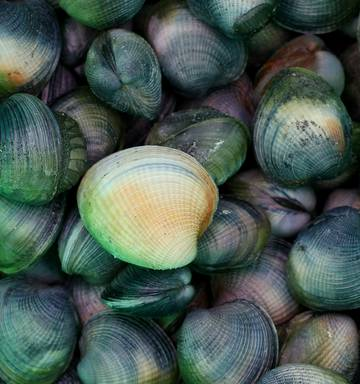cockle: (74, 144, 219, 267), (251, 66, 356, 184), (176, 298, 281, 384), (1, 272, 80, 382), (148, 5, 247, 90), (84, 27, 166, 124), (286, 202, 360, 309), (149, 104, 249, 182), (75, 312, 180, 384), (220, 237, 301, 326), (1, 92, 63, 207), (256, 35, 350, 100), (196, 194, 272, 273), (279, 309, 358, 383), (234, 168, 317, 233), (55, 206, 123, 283), (2, 1, 60, 91), (97, 264, 194, 313), (1, 204, 63, 276), (54, 90, 119, 158), (187, 1, 281, 39), (57, 1, 146, 31)
